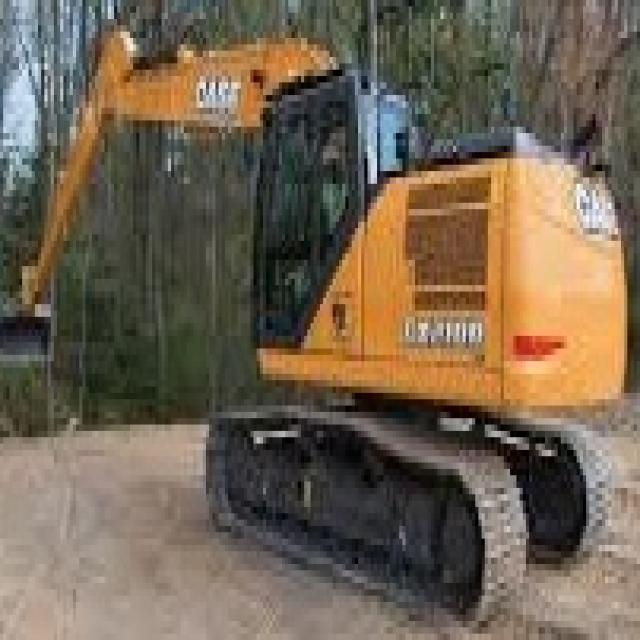excavator: (218, 59, 635, 629)
